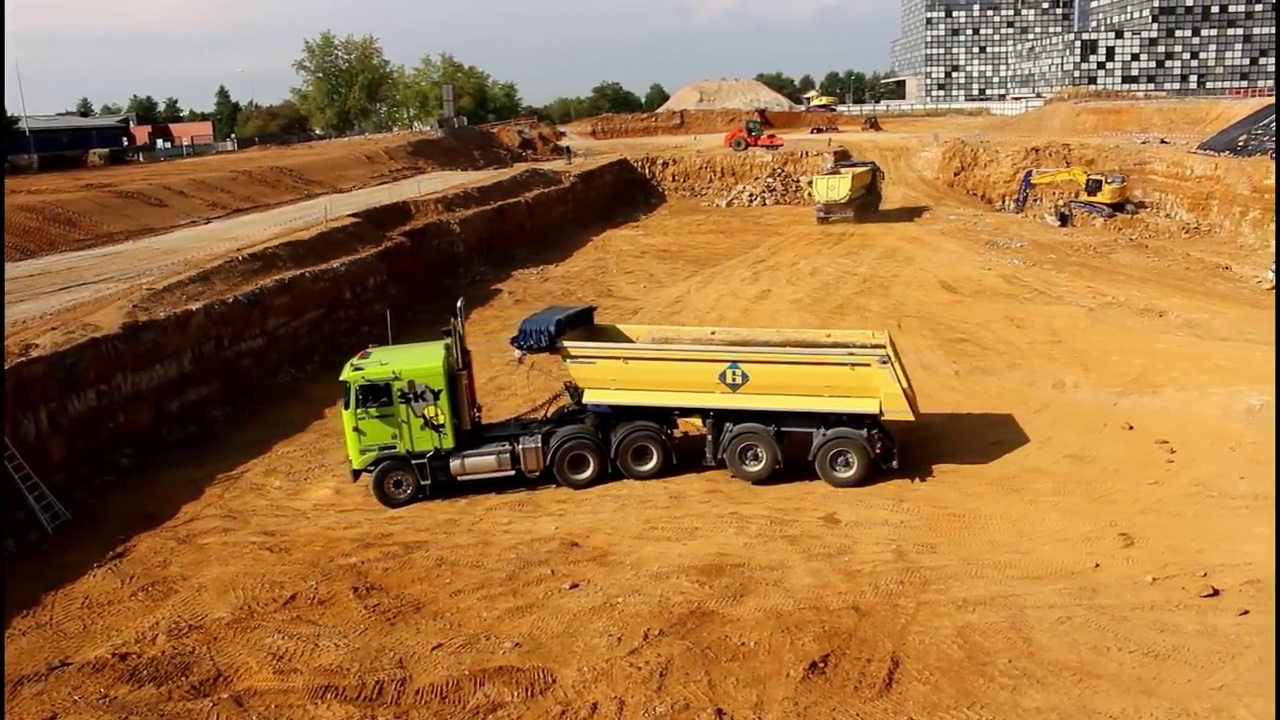compactor: (721, 110, 788, 155)
excavator: (999, 159, 1147, 231), (799, 83, 843, 117)
truck: (329, 288, 930, 513), (809, 143, 891, 231)
